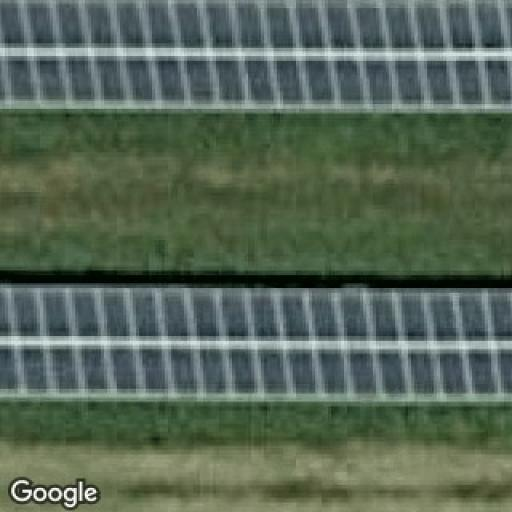solar-panel: (0, 286, 512, 405), (0, 0, 512, 107)
